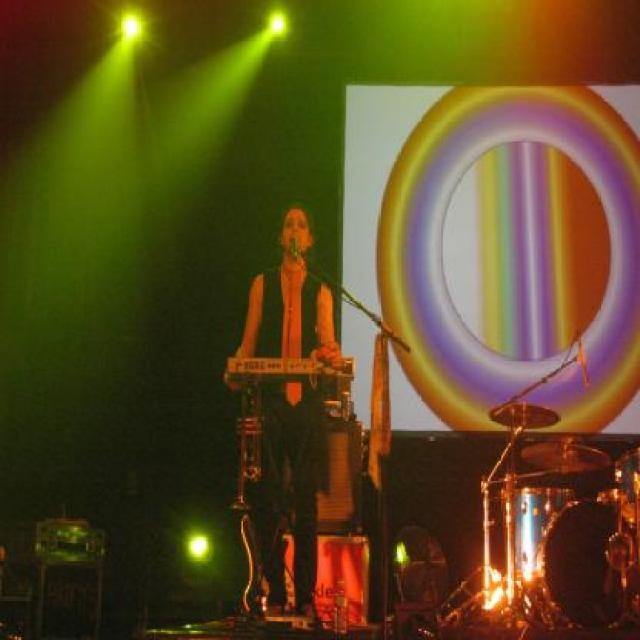obstacle: (232, 188, 358, 602)
